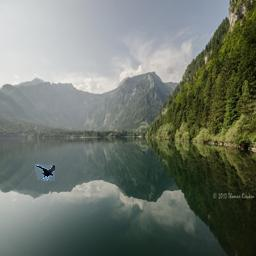Crow: (35, 164, 55, 181)
